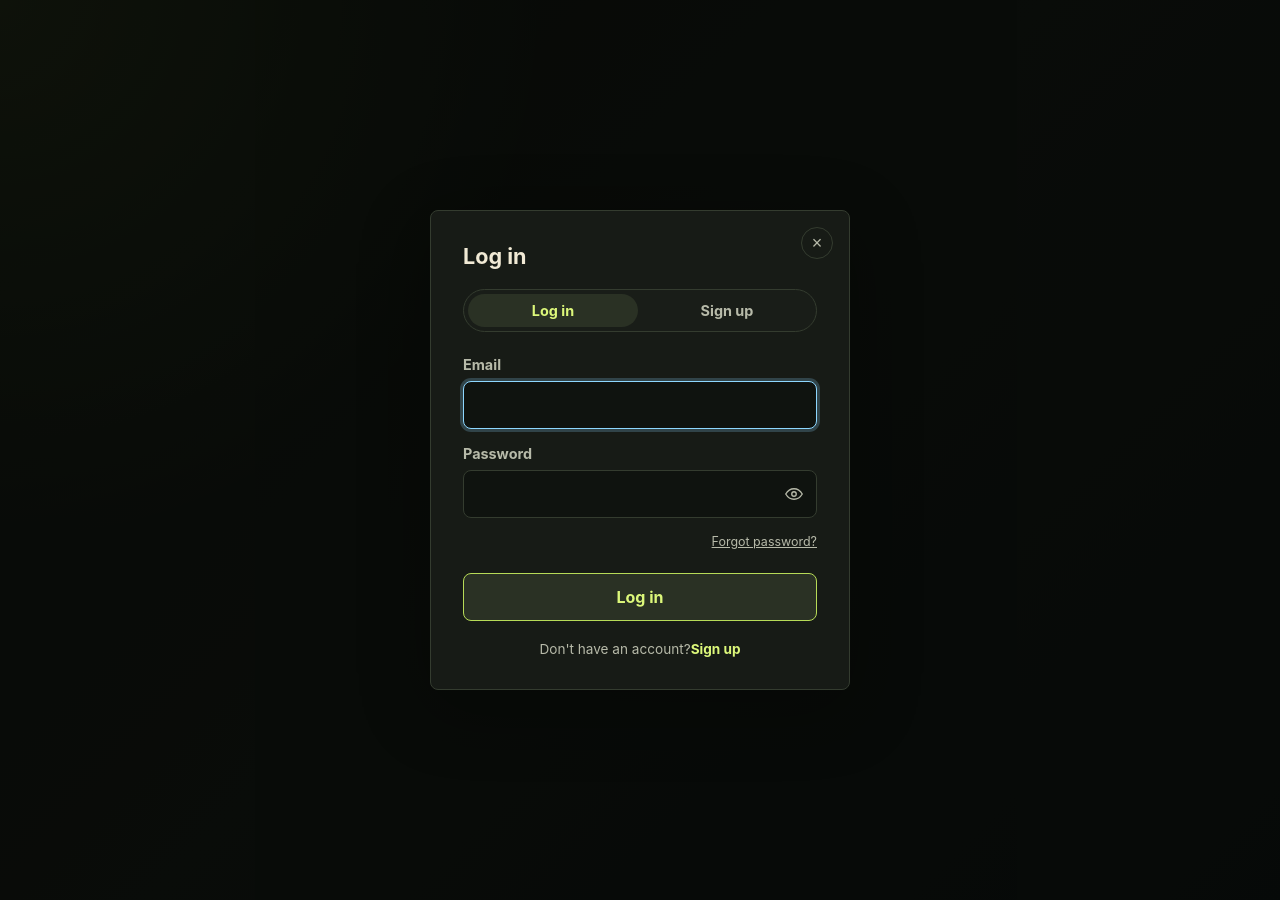
it: AuthModal — tab switching › switches title/fields and clears a previous error when changing tabs
Type "frog@example.com" into the field with id "authEmail". click: (640, 405)
box: x1=463 y1=381 x2=817 y2=429
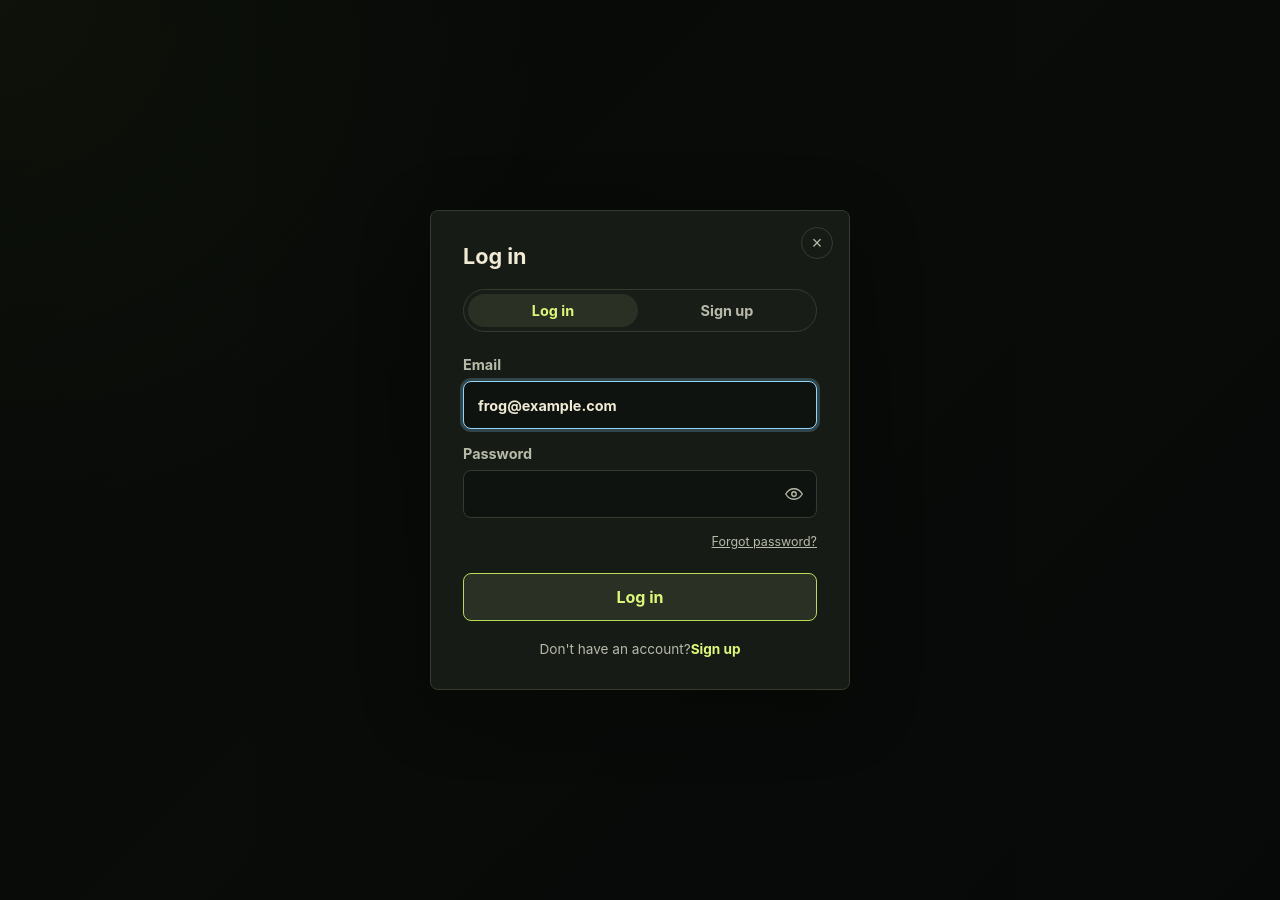
Type "wrongpass" into the password field with id "authPassword". click: (640, 494)
box: x1=463 y1=470 x2=817 y2=518
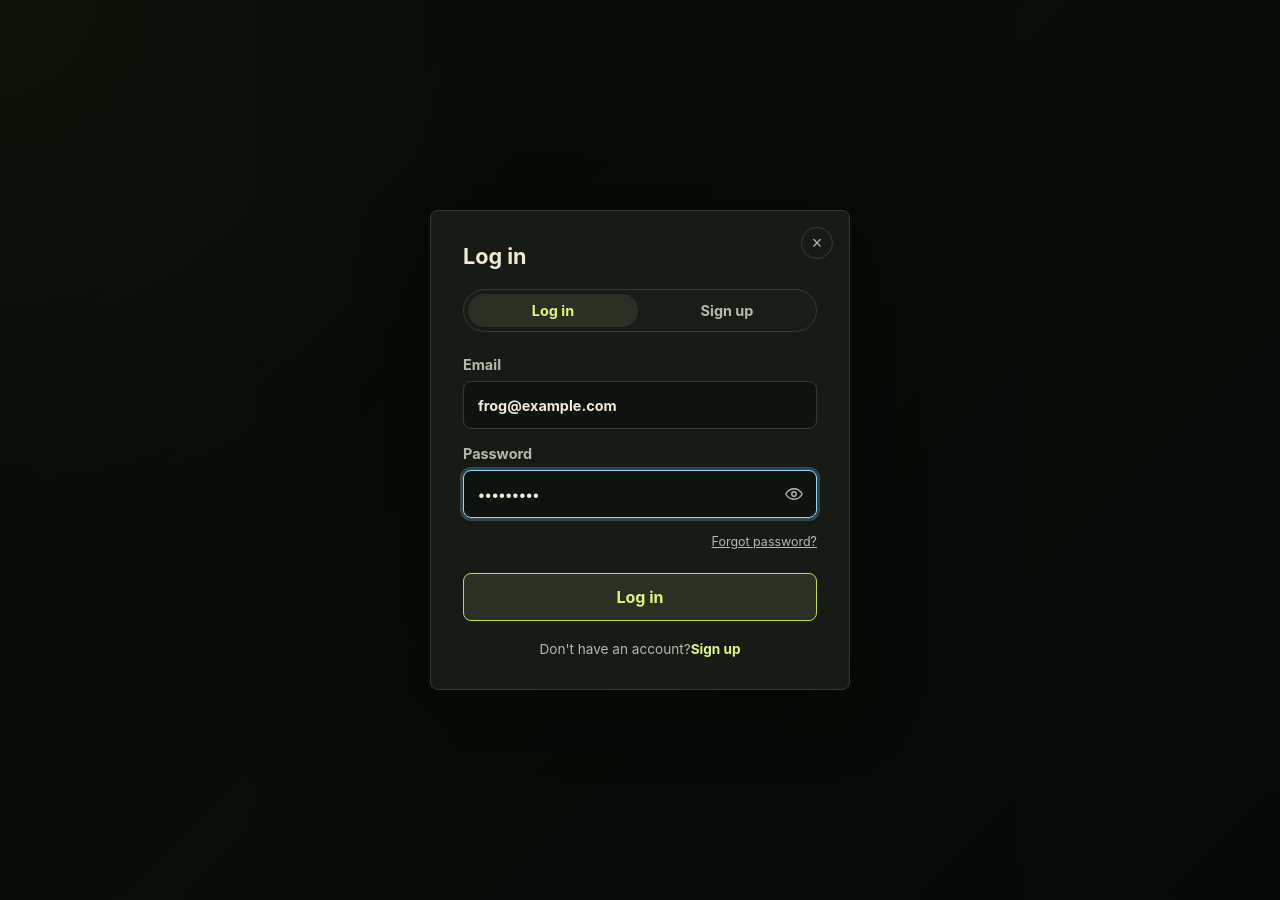
Click the button "Log in". click: (640, 597)
box: x1=463 y1=573 x2=817 y2=621
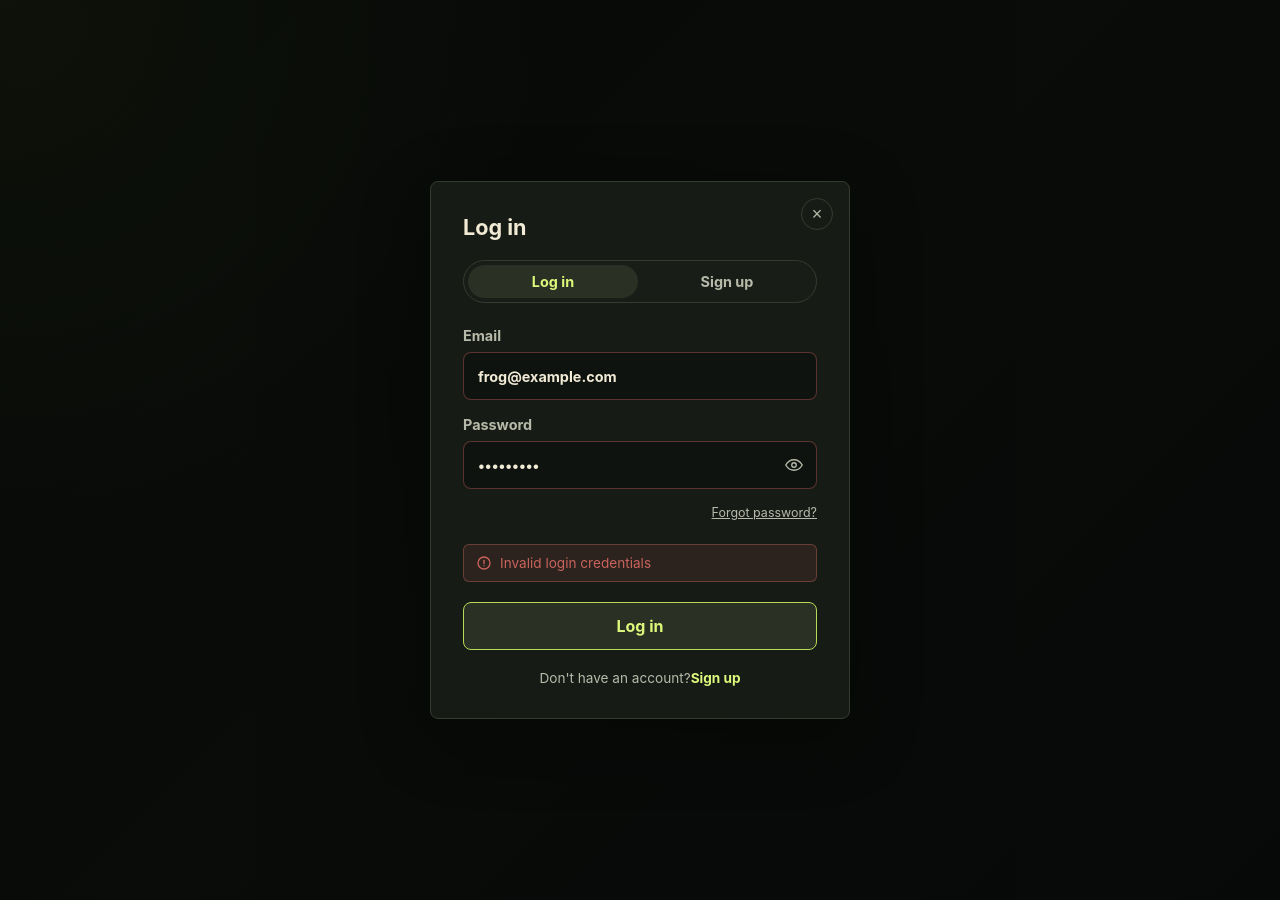
Check: the text "Invalid login credentials" is shown, box x1=500 y1=555 x2=651 y2=571
Click the tab "Sign up". click: (727, 282)
box: x1=642 y1=265 x2=812 y2=298
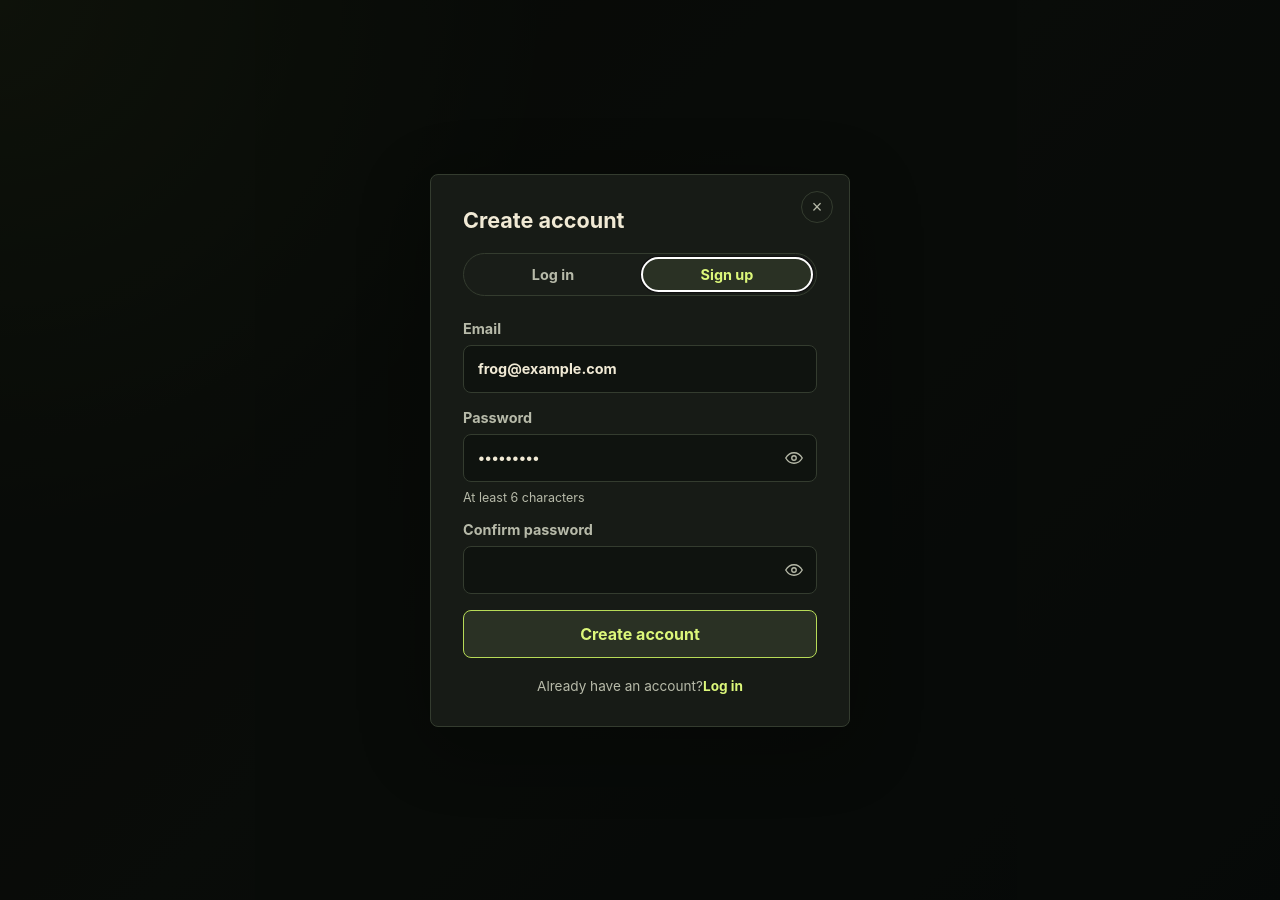
Check: the heading "Create account" is shown, box x1=463 y1=206 x2=624 y2=232
Check: the text "Invalid login credentials" is gone
